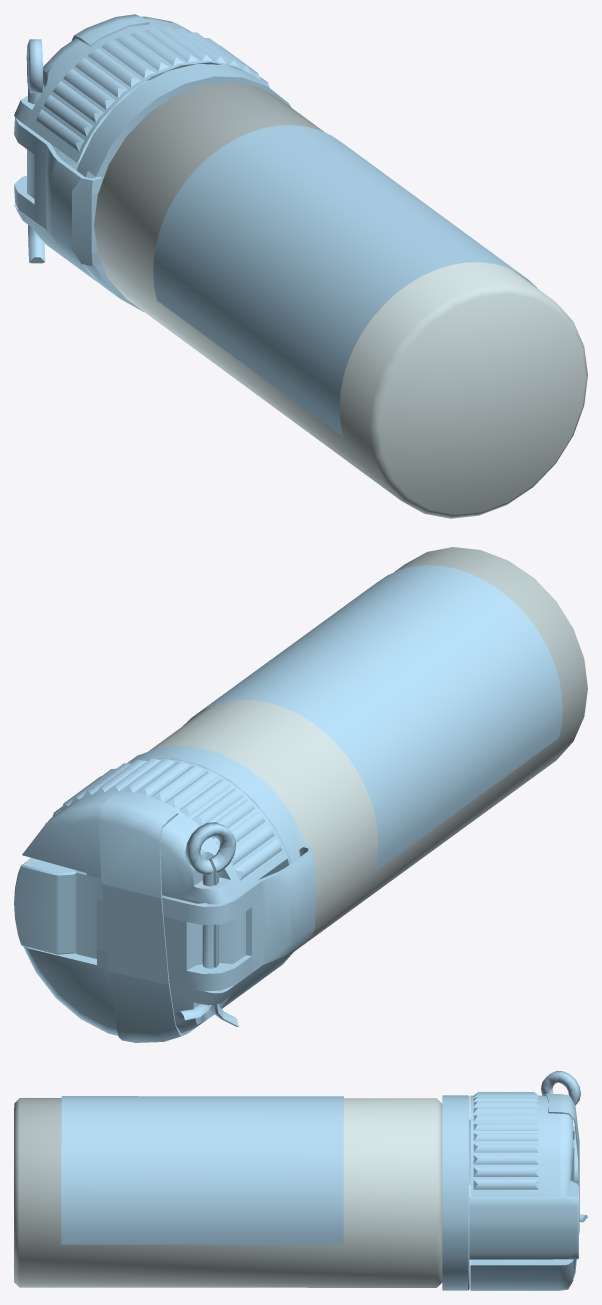
File: boomer_bile.fbx
3 views of the same model, one above another, from view 1: azimuth 30°, elevation 25°; view 2: azimuth 150°, elevation 25°; view 3: azimuth 270°, elevation 25° (orthographic). The views are drawn at different scales.
Visible parts, largest first — view 1: w_eq_bile_flask_w_bile_flask; view 2: w_eq_bile_flask_w_bile_flask; view 3: w_eq_bile_flask_w_bile_flask.
Part boxes in pixels (x1,y1,x2,y2): w_eq_bile_flask_w_bile_flask: (14,14,587,518); w_eq_bile_flask_w_bile_flask: (14,547,587,1042); w_eq_bile_flask_w_bile_flask: (14,1071,587,1290).
Size of the model in its own units: 383 by 380 by 1086.
